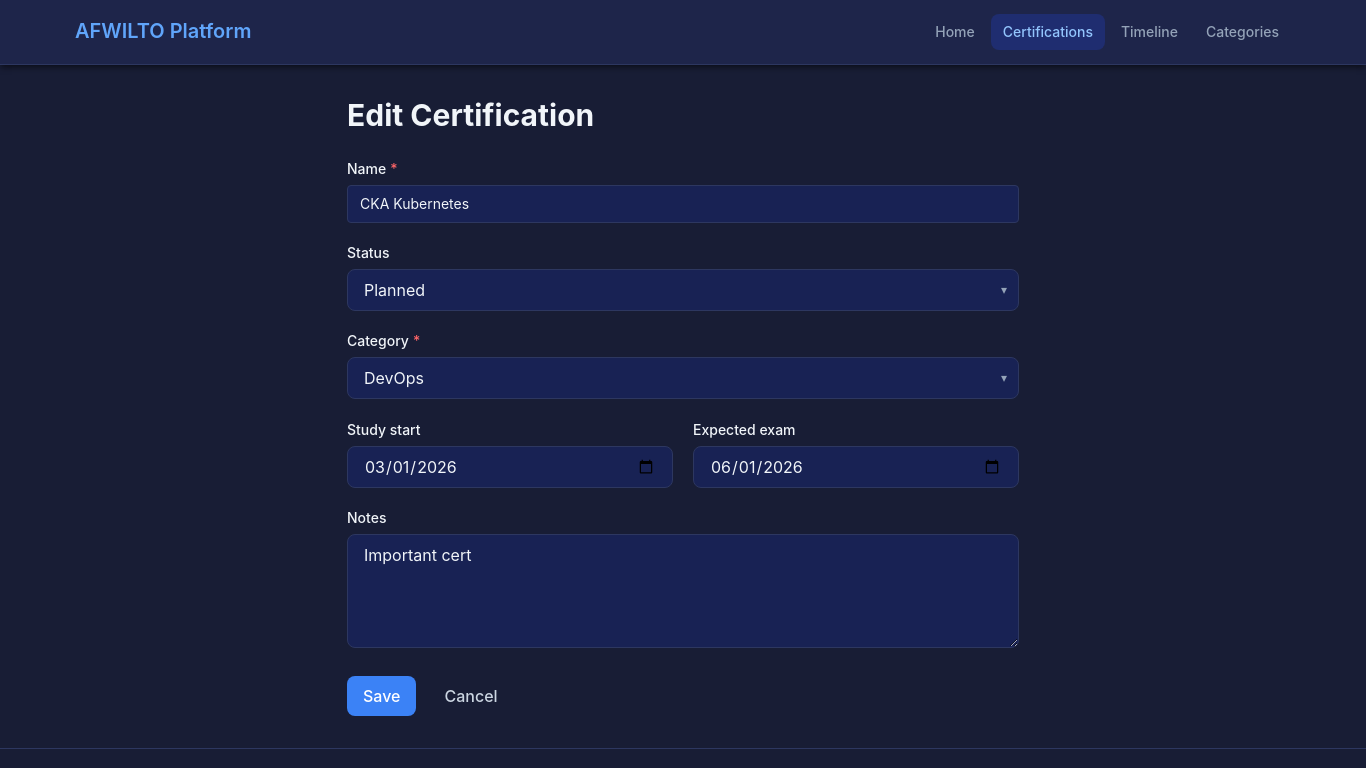
Test case: CertificationEditPage — merge-patch (Spec 14) › AC-9: an emptied category blocks the save
expect the field labelled "Name*" is shown: met, box [347,184,1019,222]
Select "Select a category…" in the dropdown labelled "Category*". click: (683, 378)
box: [347,356,1019,398]
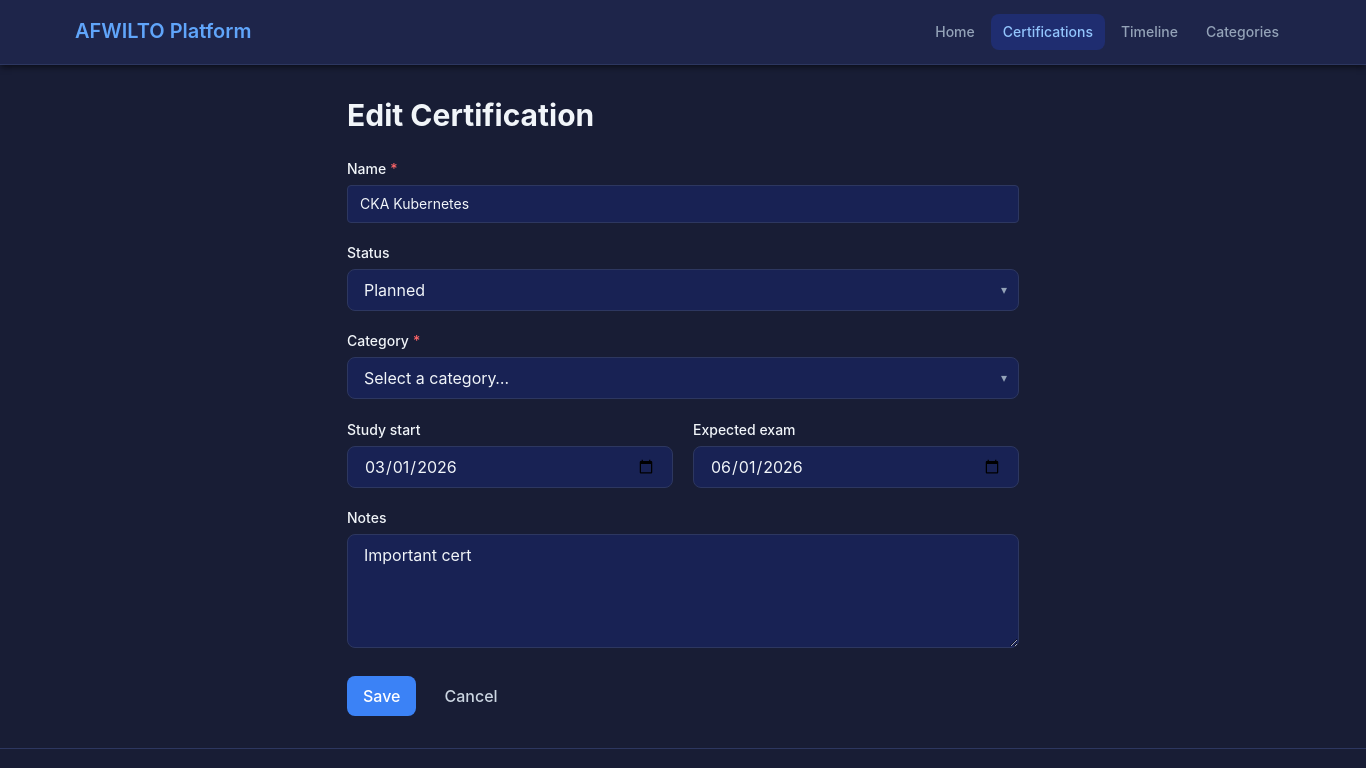
Click the button "Save". click: click(382, 696)
box: [347,676,416,716]
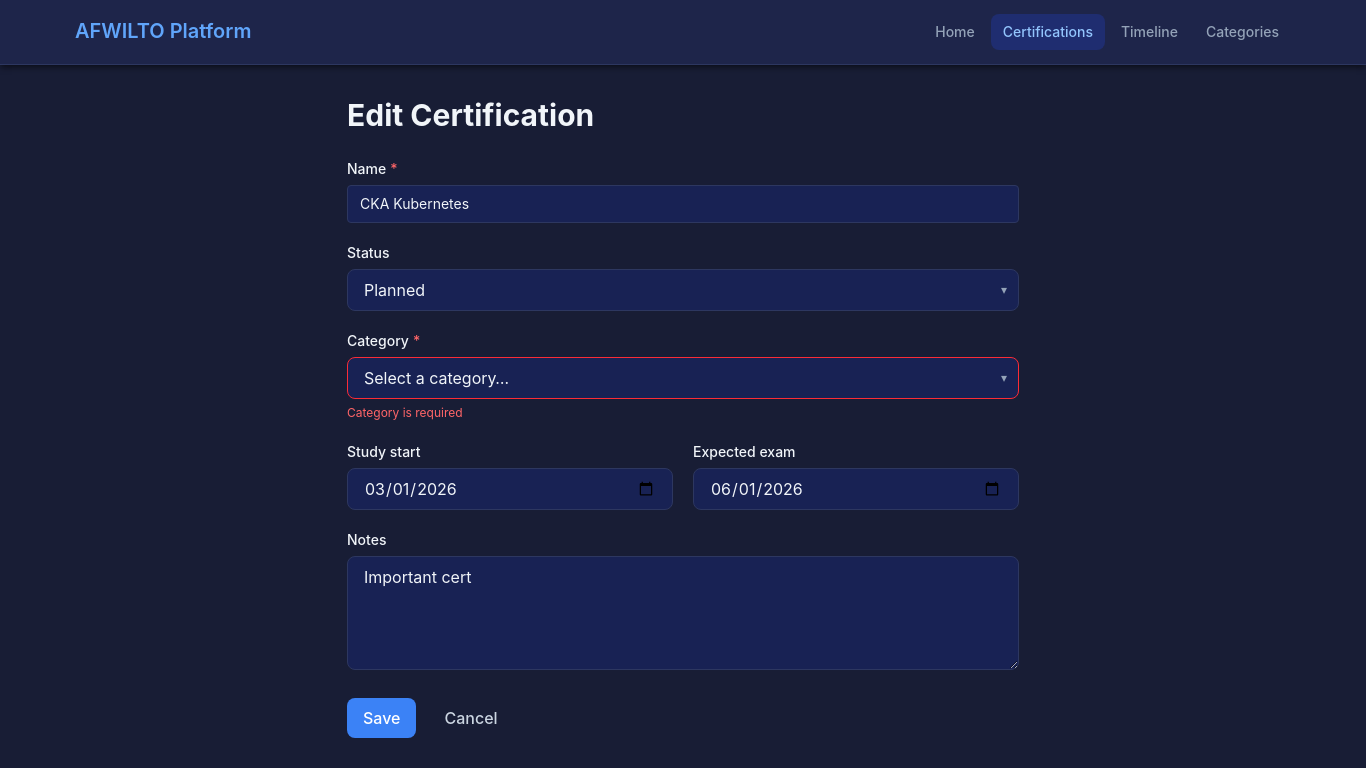
expect the text "Category is required" is shown: met, box [347,404,463,420]
